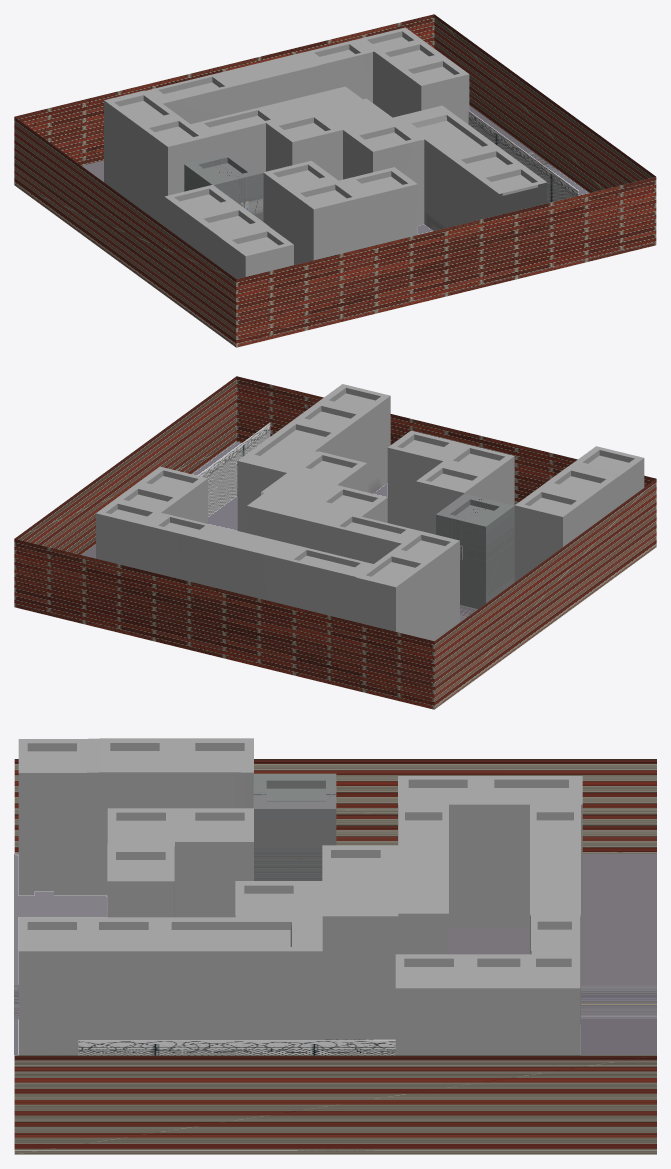
The model's file is Level1.fbx.
The picture shows the model from 3 angles, top to bottom: view 1: azimuth 30°, elevation 25°; view 2: azimuth 150°, elevation 25°; view 3: azimuth 270°, elevation 25°; orthographic projection. The views are drawn at different scales.
Visible parts, largest first — view 1: Cube, polymsh4, polymsh8, polymsh5, polymsh2, polymsh9, _012, _013, polymsh3, polymsh, polymsh1, _002 (+2 smaller); view 2: Cube, polymsh8, polymsh4, polymsh5, _013, _002, polymsh2, polymsh1, polymsh, polymsh3, polymsh9, _012 (+2 smaller); view 3: Cube, polymsh4, Ground, polymsh5, _012, polymsh9, polymsh1, polymsh8, polymsh, polymsh2, _002, _013 (+2 smaller).
Boxes of the visible parts, left/top/right/bottom form: Cube: left=14, top=14, right=656, bottom=347; polymsh4: left=343, top=105, right=547, bottom=230; polymsh8: left=145, top=27, right=421, bottom=123; polymsh5: left=104, top=90, right=208, bottom=225; polymsh2: left=263, top=160, right=361, bottom=264; polymsh9: left=373, top=40, right=469, bottom=124; _012: left=266, top=98, right=392, bottom=180; _013: left=191, top=86, right=362, bottom=208; polymsh3: left=339, top=167, right=417, bottom=248; polymsh: left=164, top=185, right=264, bottom=264; polymsh1: left=168, top=185, right=293, bottom=278; _002: left=184, top=152, right=262, bottom=221; Cube: left=14, top=376, right=656, bottom=709; polymsh8: left=96, top=501, right=373, bottom=621; polymsh4: left=237, top=384, right=390, bottom=532; polymsh5: left=355, top=530, right=459, bottom=641; _013: left=247, top=493, right=418, bottom=563; _002: left=436, top=493, right=514, bottom=608; polymsh2: left=416, top=444, right=514, bottom=534; polymsh1: left=514, top=446, right=644, bottom=581; polymsh: left=516, top=467, right=615, bottom=553; polymsh3: left=387, top=430, right=466, bottom=529; polymsh9: left=113, top=466, right=207, bottom=523; _012: left=261, top=473, right=387, bottom=522; Cube: left=14, top=759, right=656, bottom=1154; polymsh4: left=18, top=881, right=322, bottom=1055; Ground: left=14, top=853, right=656, bottom=1150; polymsh5: left=398, top=776, right=582, bottom=927; _012: left=322, top=845, right=398, bottom=1039; polymsh9: left=395, top=954, right=535, bottom=1055; polymsh1: left=18, top=738, right=253, bottom=895; polymsh8: left=530, top=804, right=580, bottom=1055; polymsh: left=101, top=738, right=253, bottom=895; polymsh2: left=107, top=808, right=253, bottom=917; _002: left=253, top=773, right=336, bottom=880; _013: left=398, top=804, right=448, bottom=954.
Size of the model in its own units: 1748 by 356 by 1600.
6 materials, 4 textured.
